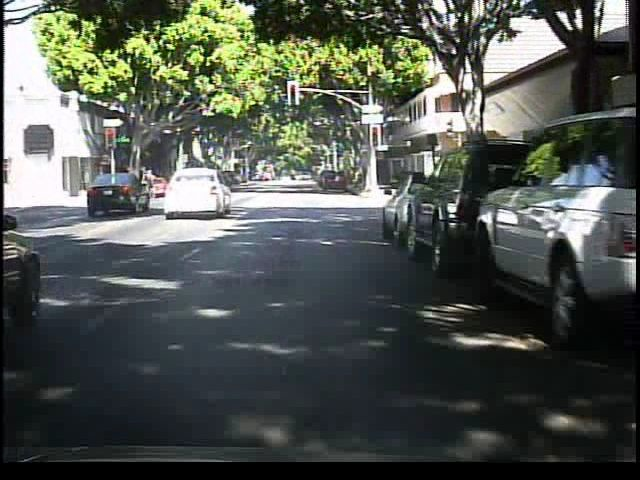person: (141, 165, 159, 191)
